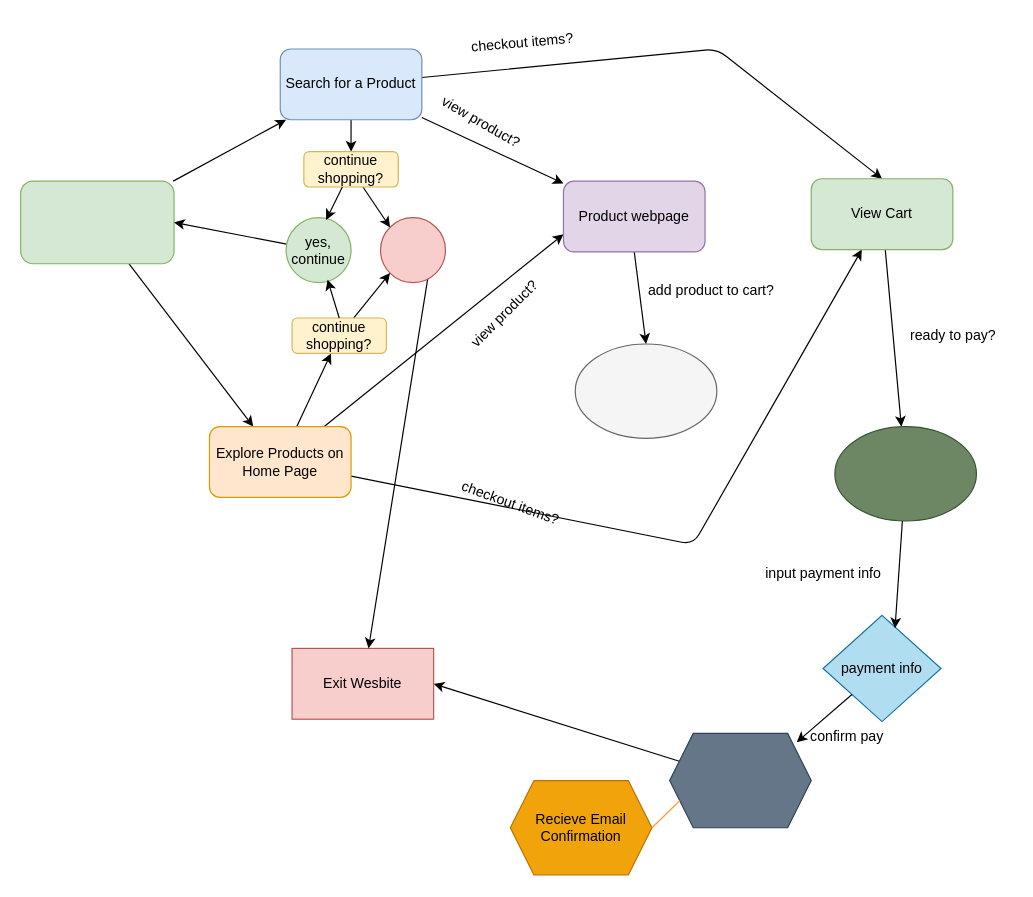
This 1033x897 diagram has some shape labels left out. The shapes that lost their labels are listed below. From the top down, each one's centre as x and y in pixels, then its label:
point (96, 222): Landing Page
point (412, 250): no, leave
point (645, 390): Added Product to Cart
point (905, 473): View Payment
point (739, 780): Order Confirmation
